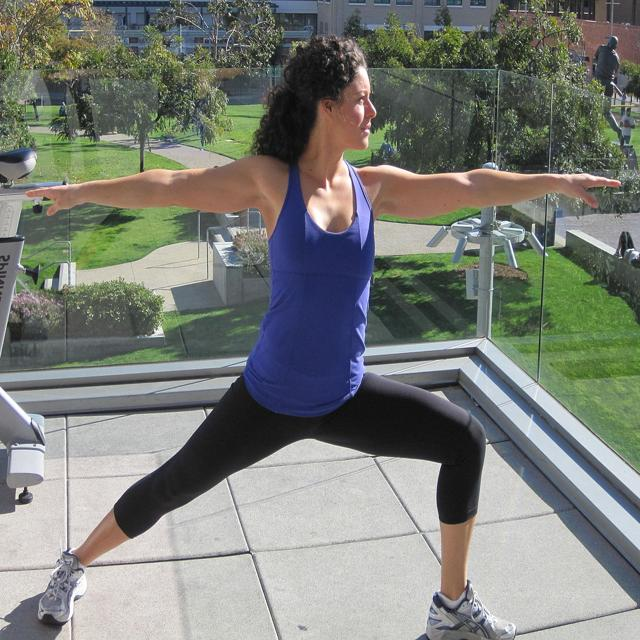Warrior_II: (1, 39, 625, 640)
